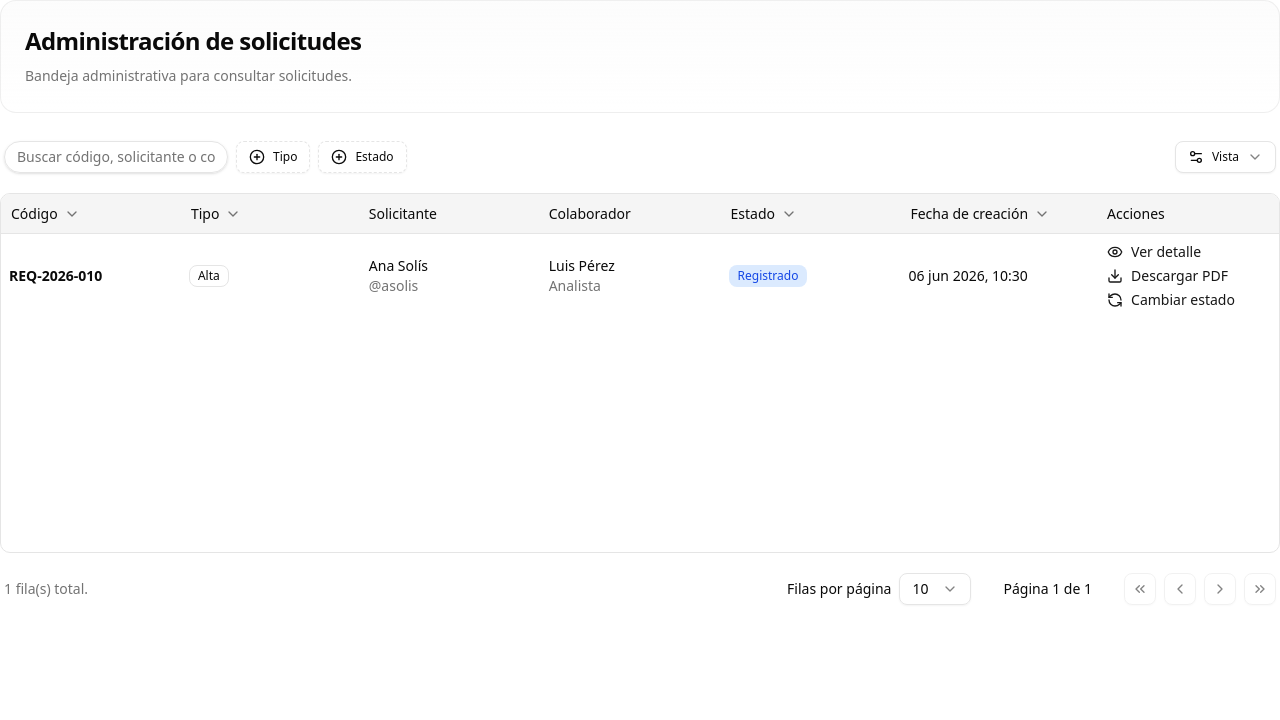
Scenario: MiAccesoAdministrationPage › envía el nuevo estado y cierra el modal al completar la actualización
Click the button "Cambiar estado": x=1171, y=300 [1107,290,1235,310]
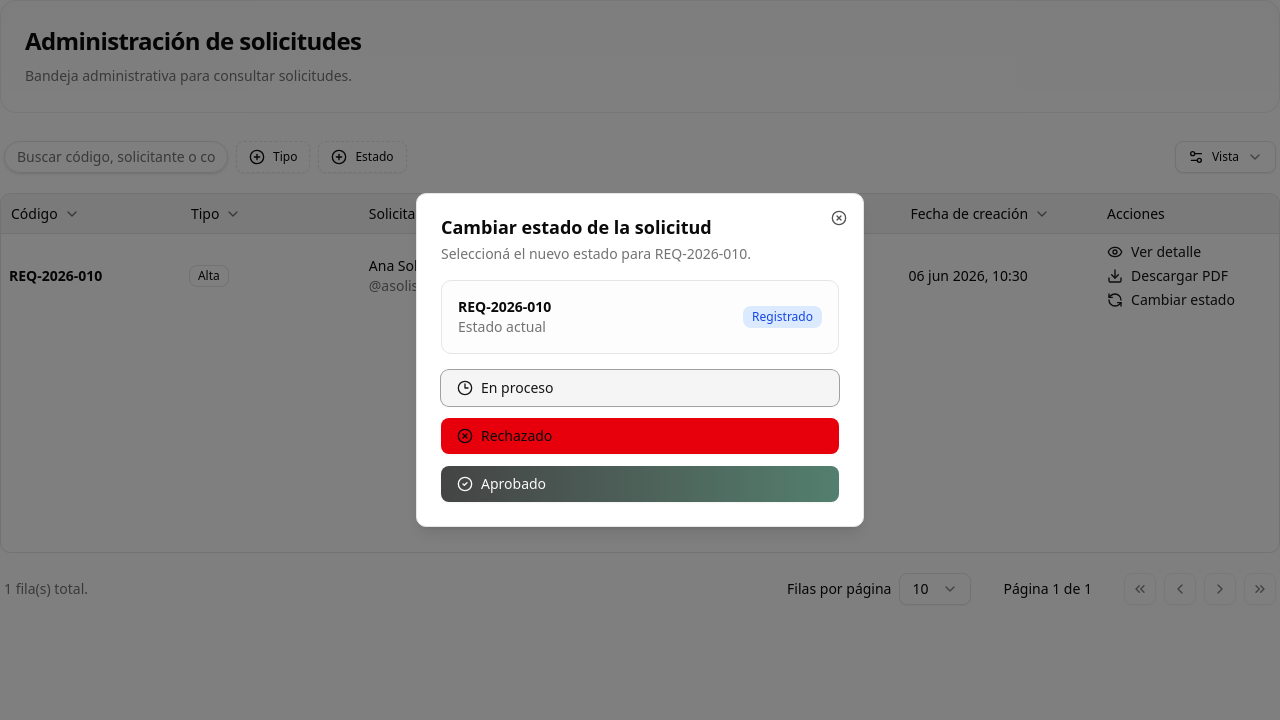
Click the button "Aprobado": x=514, y=484 [441,466,839,502]
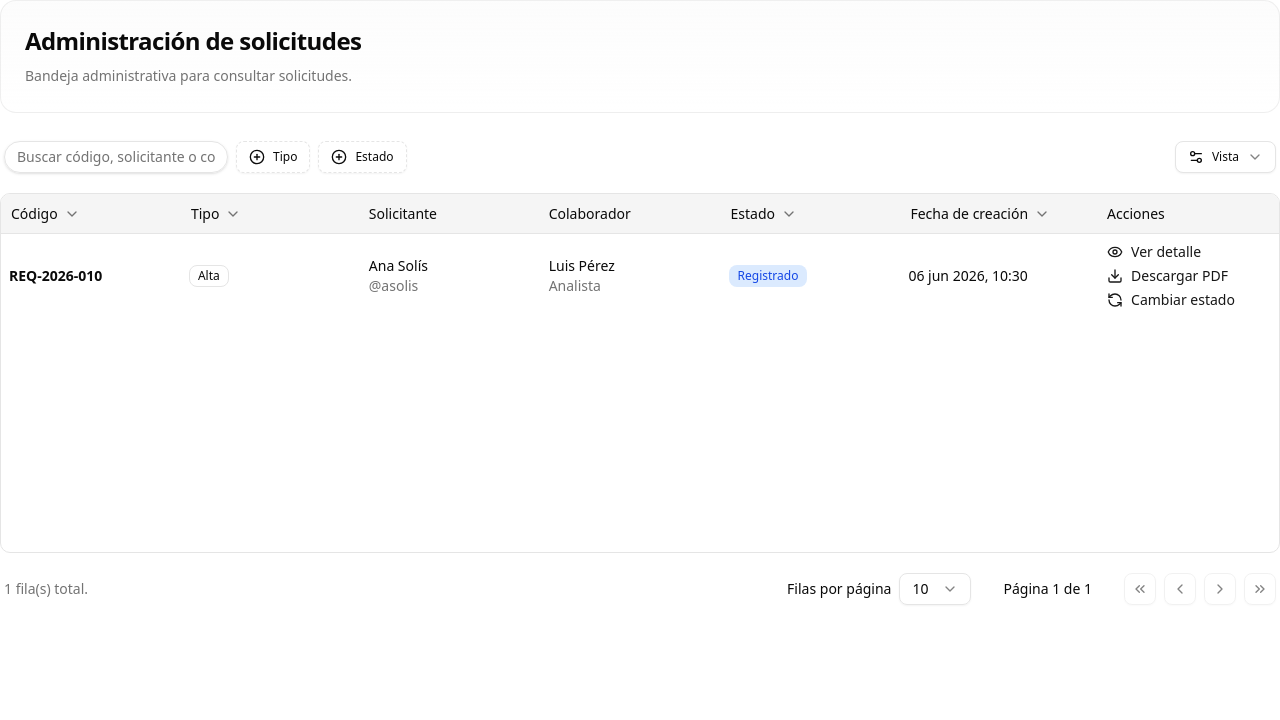
Result: the dialog is gone
